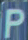Parking: (3, 6, 25, 39)
